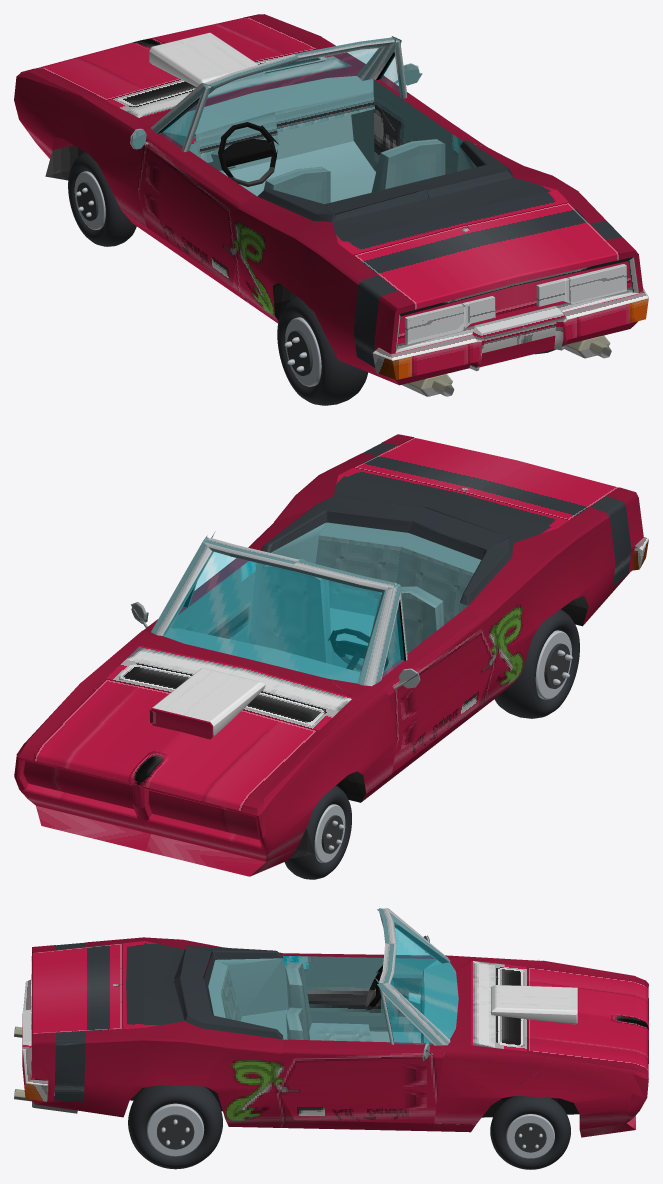
File: car-snake_v.glb
The picture shows the model from 3 angles, top to bottom: view 1: azimuth 30°, elevation 25°; view 2: azimuth 150°, elevation 25°; view 3: azimuth 270°, elevation 25°; orthographic projection. The views are drawn at different scales.
Visible parts, largest first — view 1: snake_vShape.003, snake_vShape.006, snake_vShape.002, TrunkRotShape.004, HoodRotShape.004, DoorDRotShape.020, snake_vShape.007, DoorPRotShape.020, Rounded tire.036, snake_vShape.009, Rounded tire.039, steeringwheelShape (+10 smaller); view 2: snake_vShape.003, HoodRotShape.004, snake_vShape.006, snake_vShape.009, TrunkRotShape.004, DoorDRotShape.020, snake_vShape.007, snake_vShape.005, DoorPRotShape.020, snake_vShape.002, Rounded tire.036, Rounded tire.039 (+8 smaller); view 3: snake_vShape.003, HoodRotShape.004, DoorPRotShape.019, snake_vShape.006, TrunkRotShape.004, snake_vShape.004, DoorDRotShape.021, snake_vShape.007, snake_vShape.009, snake_vShape.002, Rounded tire.037, Rounded tire.038 (+10 smaller).
Boxes of the visible parts, x1,y1,x2,y2 form: snake_vShape.003: (14, 14, 643, 385); snake_vShape.006: (152, 37, 600, 281); snake_vShape.002: (332, 177, 648, 379); TrunkRotShape.004: (338, 190, 619, 309); HoodRotShape.004: (36, 17, 351, 118); DoorDRotShape.020: (137, 132, 256, 285); snake_vShape.007: (258, 140, 621, 367); DoorPRotShape.020: (373, 36, 462, 174); Rounded tire.036: (277, 296, 367, 405); snake_vShape.009: (189, 48, 379, 110); Rounded tire.039: (68, 152, 136, 246); steeringwheelShape: (218, 122, 278, 186); snake_vShape.003: (14, 434, 643, 876); HoodRotShape.004: (33, 646, 352, 811); snake_vShape.006: (95, 445, 513, 692); snake_vShape.009: (163, 551, 381, 683); TrunkRotShape.004: (339, 437, 618, 528); DoorDRotShape.020: (377, 606, 496, 772); snake_vShape.007: (260, 443, 631, 605); snake_vShape.005: (16, 758, 263, 849); DoorPRotShape.020: (131, 531, 256, 642); snake_vShape.002: (333, 475, 648, 570); Rounded tire.036: (494, 609, 579, 718); Rounded tire.039: (284, 785, 351, 879); snake_vShape.003: (31, 937, 648, 1137); HoodRotShape.004: (471, 961, 648, 1071); DoorPRotShape.019: (276, 1039, 444, 1123); snake_vShape.006: (57, 909, 458, 1053); TrunkRotShape.004: (32, 941, 144, 1033); snake_vShape.004: (201, 1028, 433, 1131); DoorDRotShape.021: (283, 908, 445, 1032); snake_vShape.007: (54, 942, 282, 1101); snake_vShape.009: (390, 922, 458, 1038); snake_vShape.002: (22, 941, 184, 1101); Rounded tire.037: (128, 1085, 222, 1169); Rounded tire.038: (490, 1095, 570, 1169).
Bounding box in the file's own units: 2.36 × 1.76 × 5.49.
Materials: 14 (11 with a texture image).
